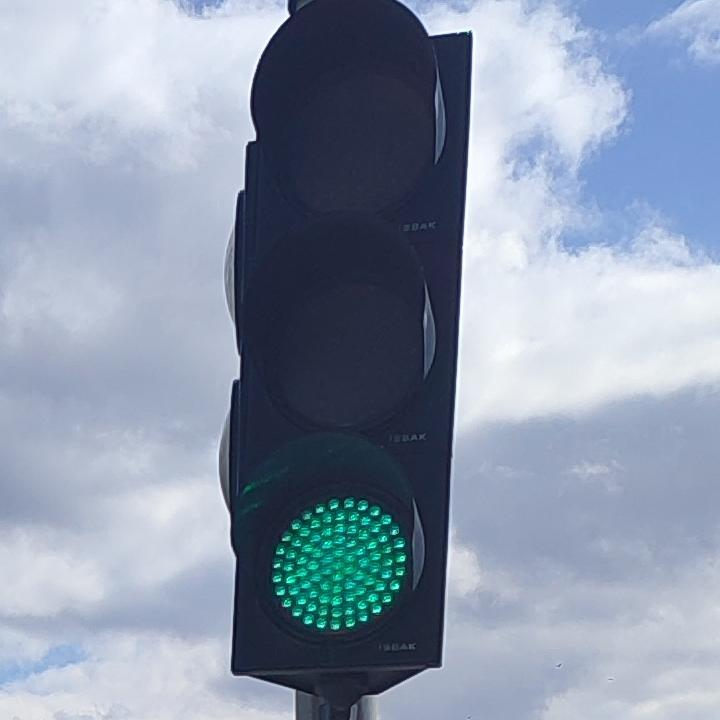green: (214, 0, 469, 701)
